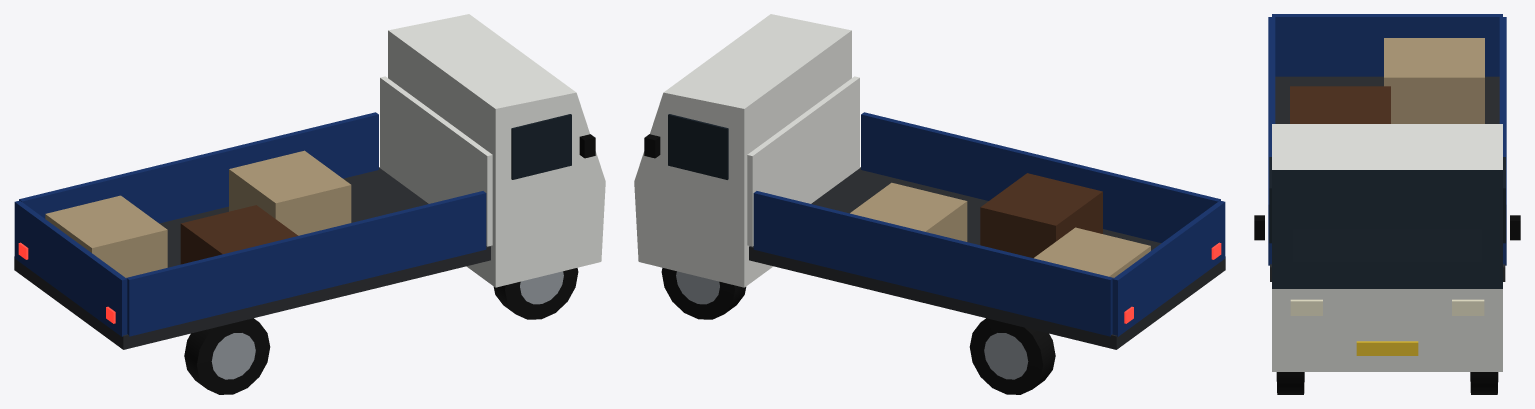
Rendered from lcv_tempo.glb.
The picture shows the model from 3 angles, left to right: view 1: azimuth 30°, elevation 25°; view 2: azimuth 150°, elevation 25°; view 3: azimuth 270°, elevation 25°; orthographic projection. The views are drawn at different scales.
Visible parts, largest first — view 1: lcv_tempo_body, wheel_rr.005, wheel_fr.003; view 2: lcv_tempo_body, wheel_rl.005, wheel_fl.003; view 3: lcv_tempo_body, wheel_fr.003, wheel_fl.003.
Part boxes in pixels (bbox=[...]): lcv_tempo_body: bbox=[14, 14, 605, 349]; wheel_rr.005: bbox=[184, 318, 270, 394]; wheel_fr.003: bbox=[493, 268, 578, 319]; lcv_tempo_body: bbox=[634, 14, 1225, 349]; wheel_rl.005: bbox=[969, 318, 1055, 394]; wheel_fl.003: bbox=[661, 267, 746, 319]; lcv_tempo_body: bbox=[1254, 14, 1520, 371]; wheel_fr.003: bbox=[1276, 372, 1304, 394]; wheel_fl.003: bbox=[1470, 372, 1498, 394].
Size of the model in its own units: 4.53 by 1.98 by 1.98.
Materials: 2 (1 with a texture image).
